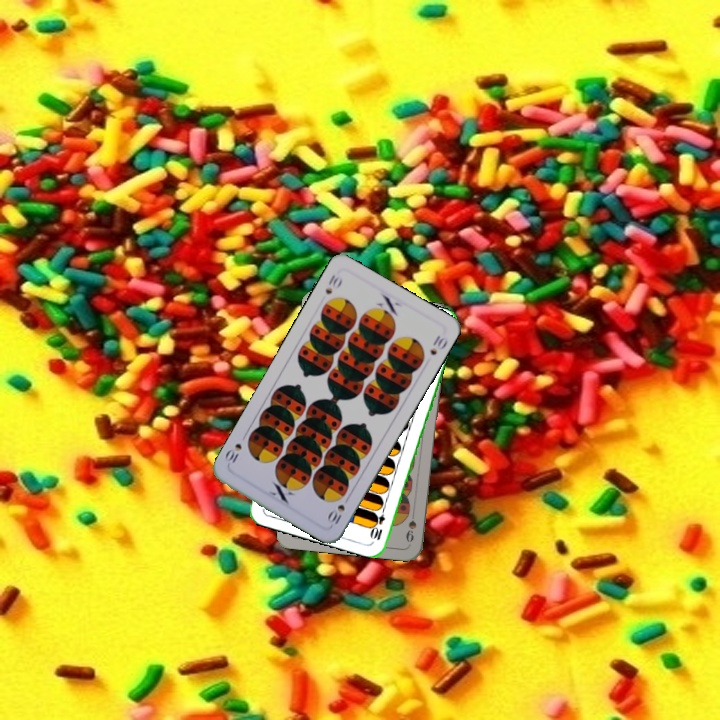E10: (369, 502, 388, 543)
S10: (324, 492, 352, 527), (321, 270, 345, 297)
S9: (402, 505, 419, 544)
